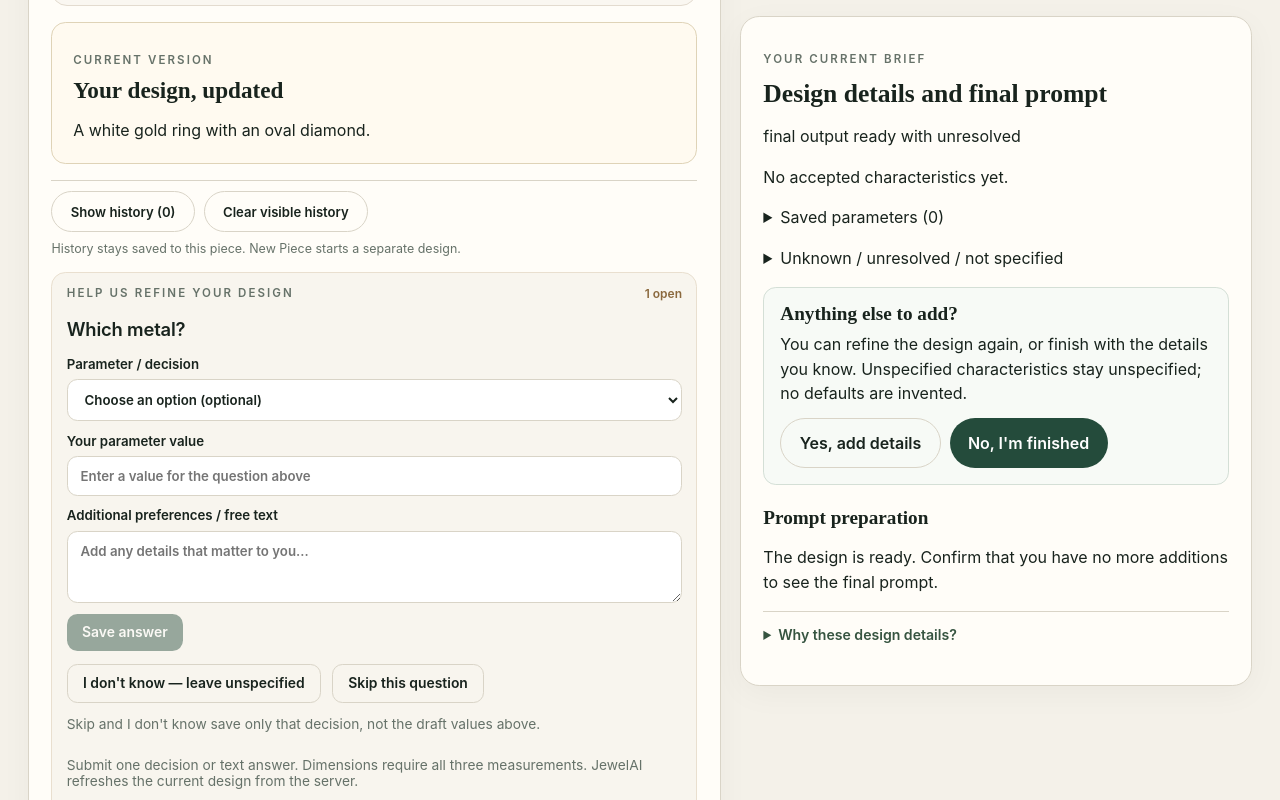
Prompt Enrichment workspace › offers native text while preventing a double submit
Later steps or results of the test are not shown.
(page scrolled)
Check: the heading "Which metal?" is shown, box [67, 318, 185, 340]
Check: the text "Your parameter value" is shown, box [67, 433, 204, 449]
Select "Gold" in the dropdown labelled "Parameter / decision" at {"x": 374, "y": 400}, box [67, 379, 682, 421]
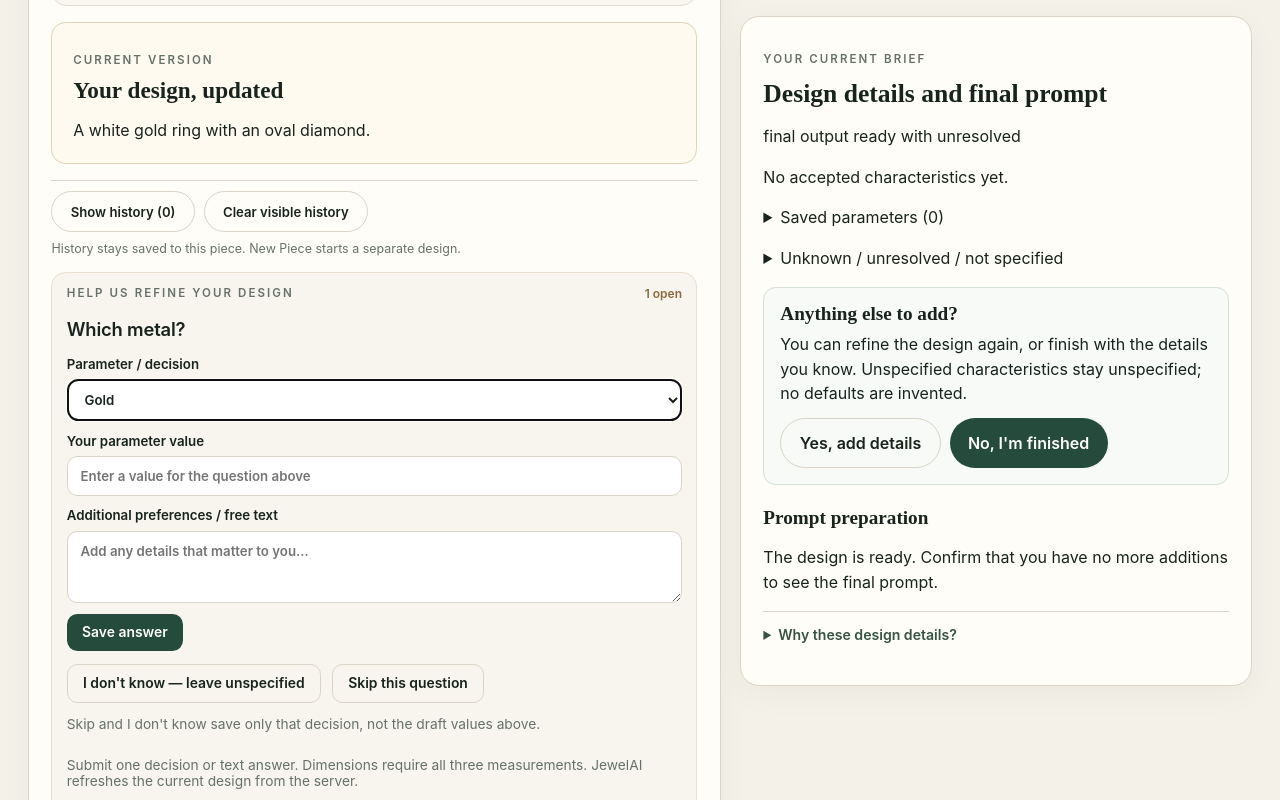
Type "Matte finish" into the text box named "Clarification free-text answer" at {"x": 374, "y": 566}, box [67, 530, 682, 602]
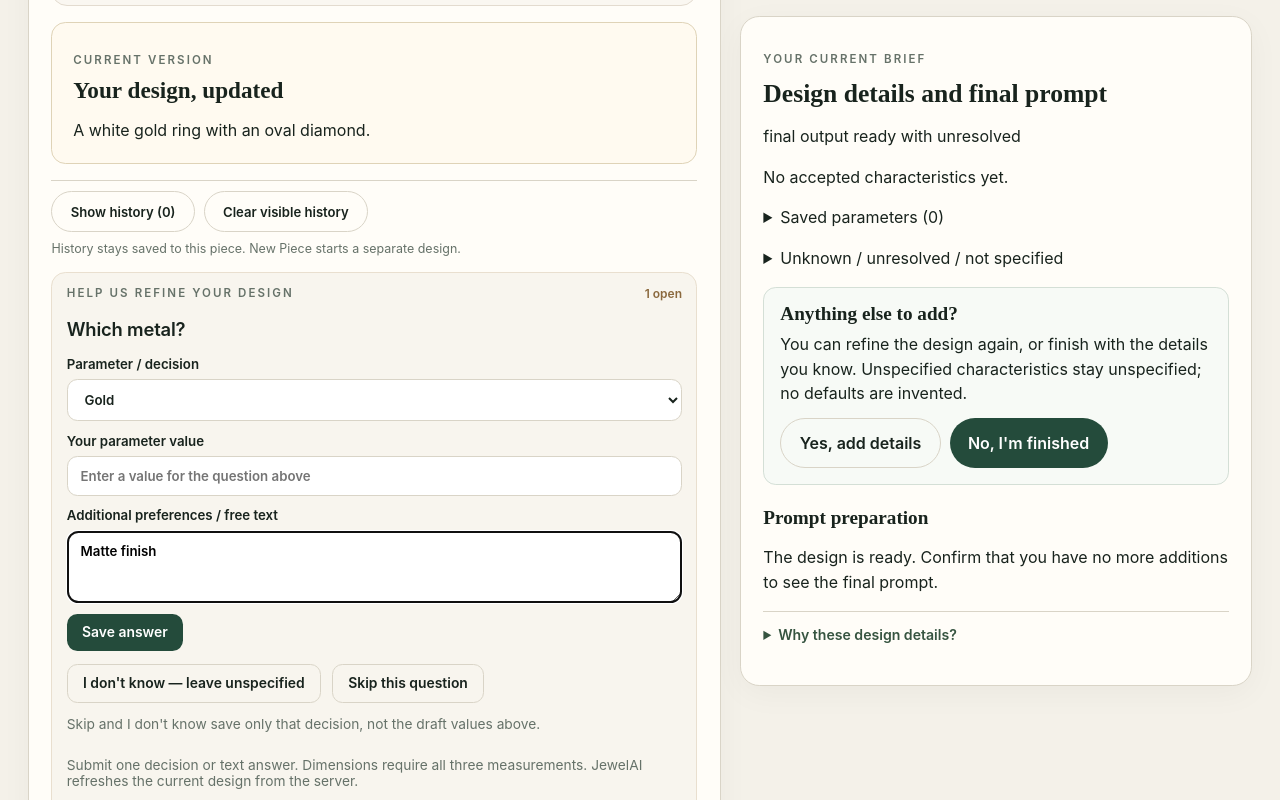
Click the button "Save answer" at {"x": 125, "y": 632}, box [67, 614, 183, 650]
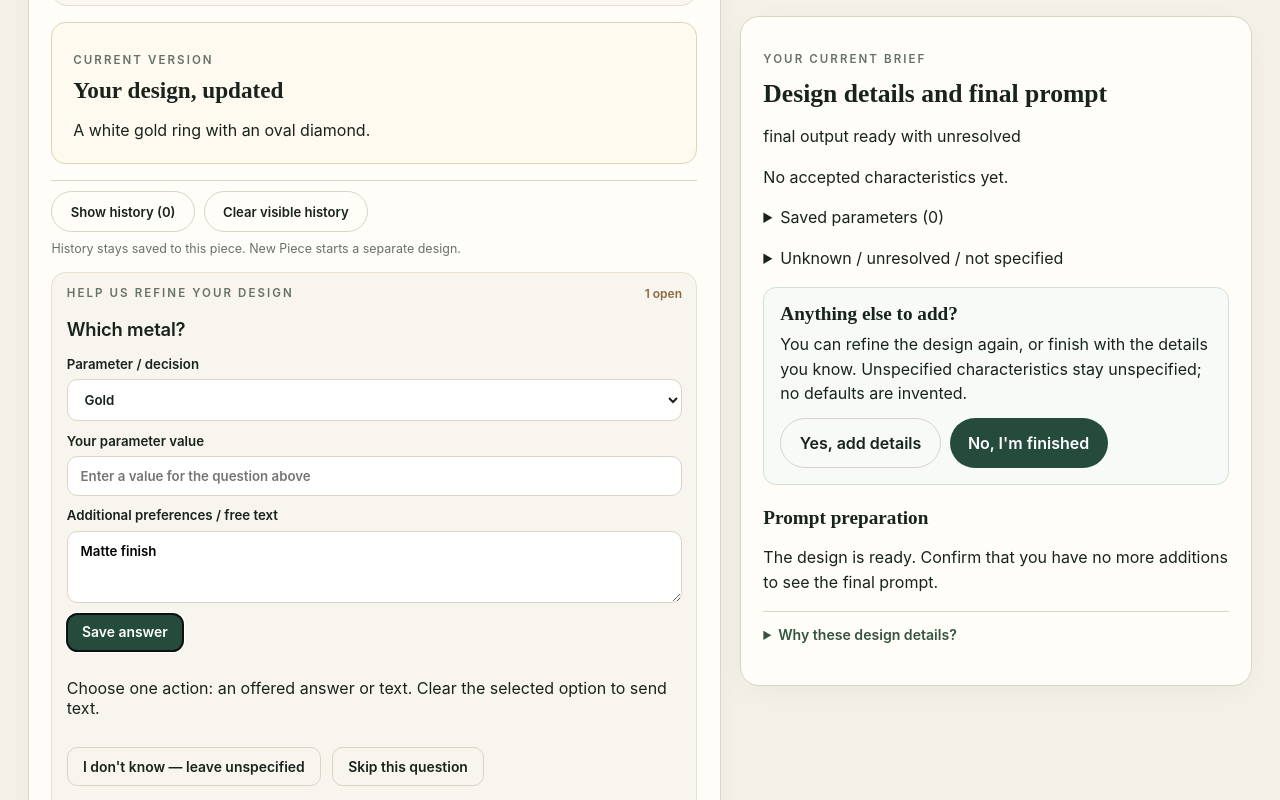
Check: the 2nd message shows "Choose one action", box [67, 678, 667, 718]
